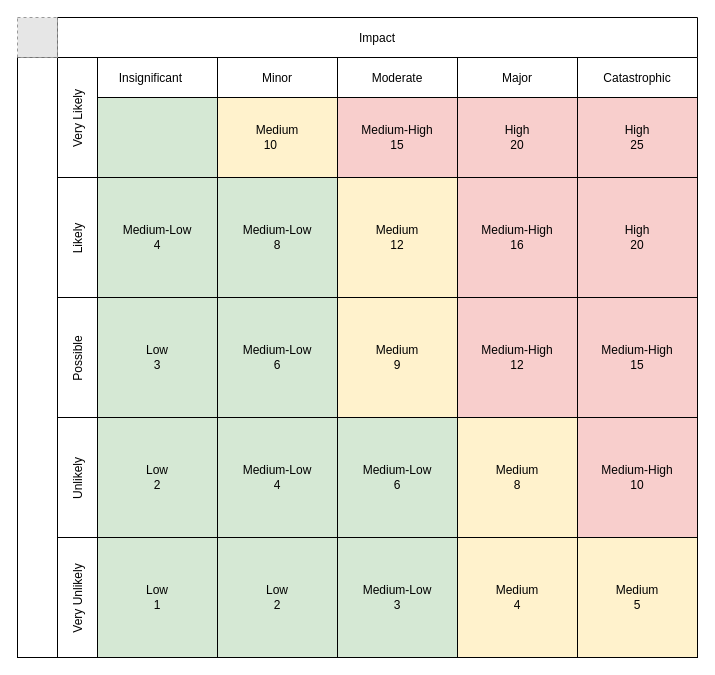
Some shapes in this 715 by 675 pixel diagram are drawn without their labels. Grey dashed boxes stand in for pictures. The shapes that lost their labels are listed below. From the top down, each one's centre as x and y in pixels, then its label:
At pixel 157 137: "Medium-Low 5".
At pixel 37 357: "Probability".
